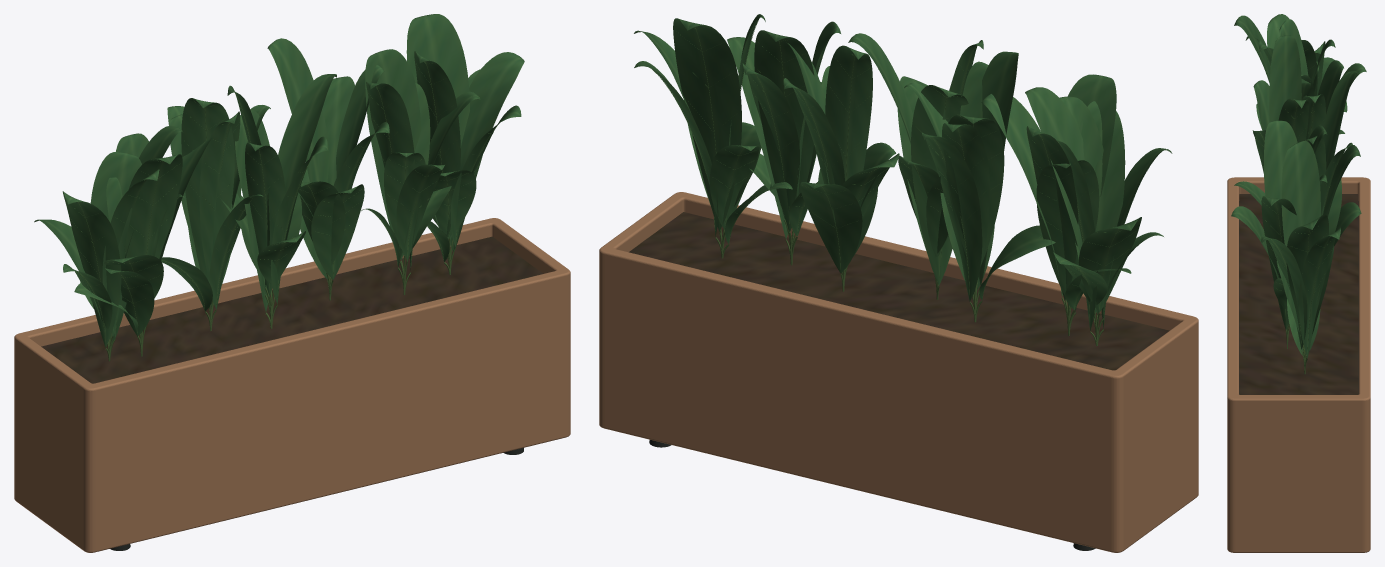
Rendered from separator-3.glb.
3 views of the same model, side by side, from view 1: azimuth 30°, elevation 25°; view 2: azimuth 150°, elevation 25°; view 3: azimuth 270°, elevation 25° (orthographic). The views are drawn at different scales.
Visible parts, largest first — view 1: Planter_oiled_oak, Planter_foliage, Planter_loose_soil, Planter_leaf_veins, Planter_petioles; view 2: Planter_oiled_oak, Planter_foliage, Planter_loose_soil, Planter_leaf_veins, Planter_petioles; view 3: Planter_oiled_oak, Planter_foliage, Planter_loose_soil, Planter_leaf_veins, Planter_inner_liner.
Boxes of the visible parts, bbox=[...] form: Planter_oiled_oak: bbox=[14, 218, 570, 552]; Planter_foliage: bbox=[34, 14, 524, 347]; Planter_loose_soil: bbox=[41, 236, 542, 383]; Planter_leaf_veins: bbox=[36, 18, 523, 340]; Planter_petioles: bbox=[105, 238, 455, 361]; Planter_oiled_oak: bbox=[599, 192, 1198, 552]; Planter_foliage: bbox=[634, 14, 1172, 330]; Planter_loose_soil: bbox=[629, 212, 1169, 370]; Planter_leaf_veins: bbox=[635, 20, 1170, 323]; Planter_petioles: bbox=[715, 220, 1104, 345]; Planter_oiled_oak: bbox=[1227, 177, 1370, 552]; Planter_foliage: bbox=[1231, 14, 1366, 357]; Planter_loose_soil: bbox=[1239, 194, 1358, 394]; Planter_leaf_veins: bbox=[1235, 40, 1357, 352]; Planter_inner_liner: bbox=[1239, 201, 1358, 394].
Bounding box in the file's own units: 1.1 × 0.9 × 0.3.
